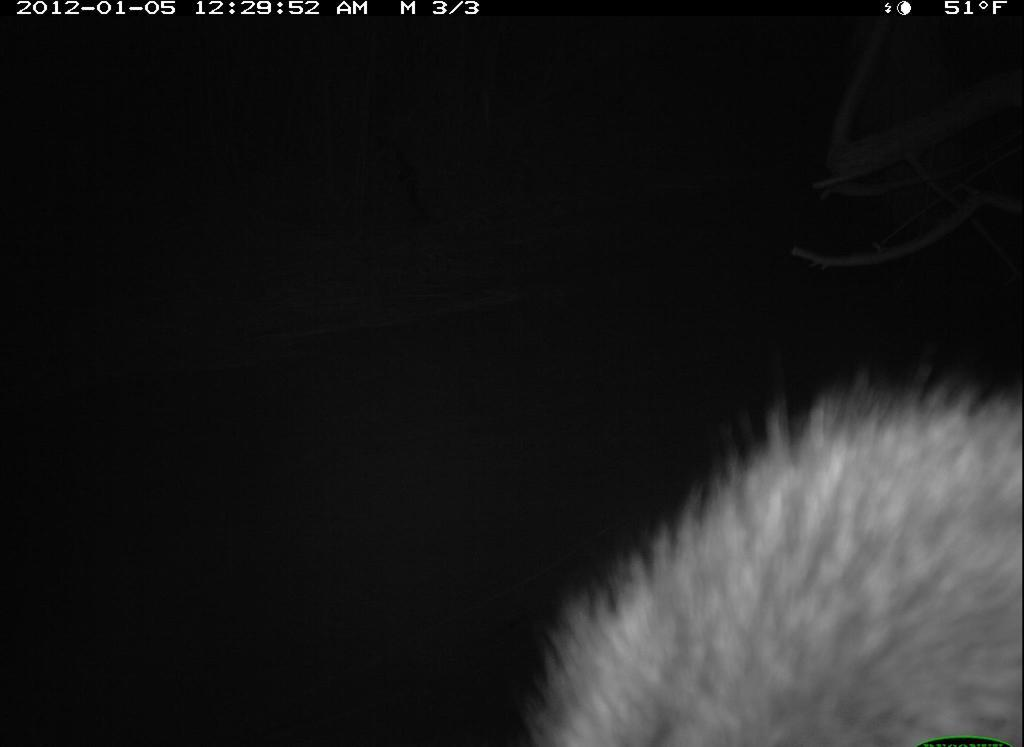raccoon: (520, 359, 1024, 747)
